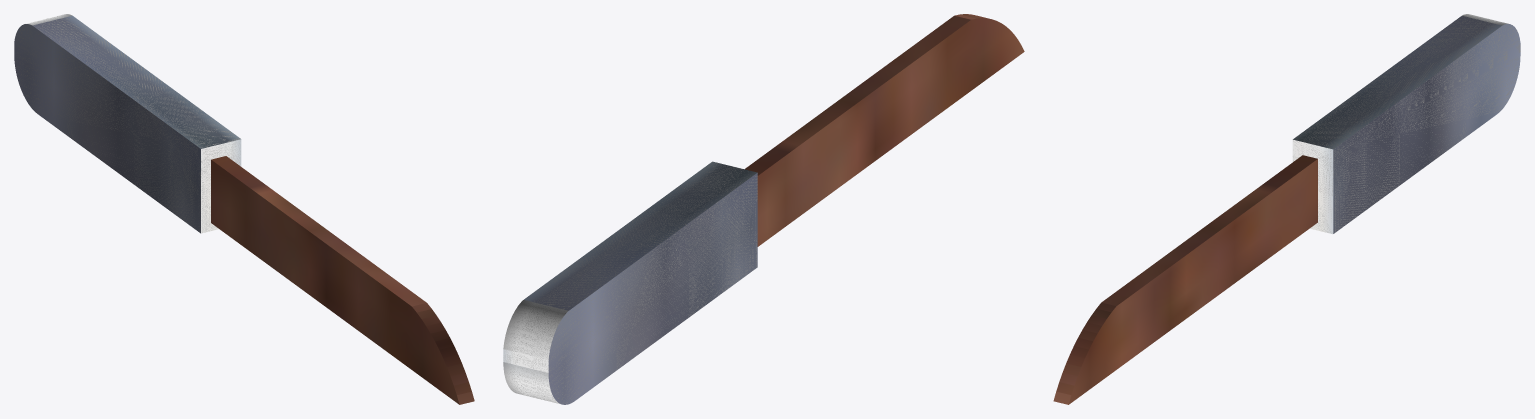
Rendered from model_align.obj.
3 renders of one model, left to right at view 1: azimuth 30°, elevation 25°; view 2: azimuth 150°, elevation 25°; view 3: azimuth 330°, elevation 25°, orthographic. The views are drawn at different scales.
Parts seen in each view (by area): view 1: mesh1_mesh1-geometry, mesh2_mesh2-geometry; view 2: mesh1_mesh1-geometry, mesh2_mesh2-geometry; view 3: mesh1_mesh1-geometry, mesh2_mesh2-geometry.
Boxes of the visible parts, x1,y1,x2,y2 form: mesh1_mesh1-geometry: (14, 14, 241, 233); mesh2_mesh2-geometry: (211, 156, 474, 404); mesh1_mesh1-geometry: (503, 161, 757, 404); mesh2_mesh2-geometry: (745, 14, 1024, 246); mesh1_mesh1-geometry: (1292, 14, 1520, 234); mesh2_mesh2-geometry: (1053, 155, 1317, 404).
Size of the model in its own units: 0.0118 by 0.0236 by 0.2201.
